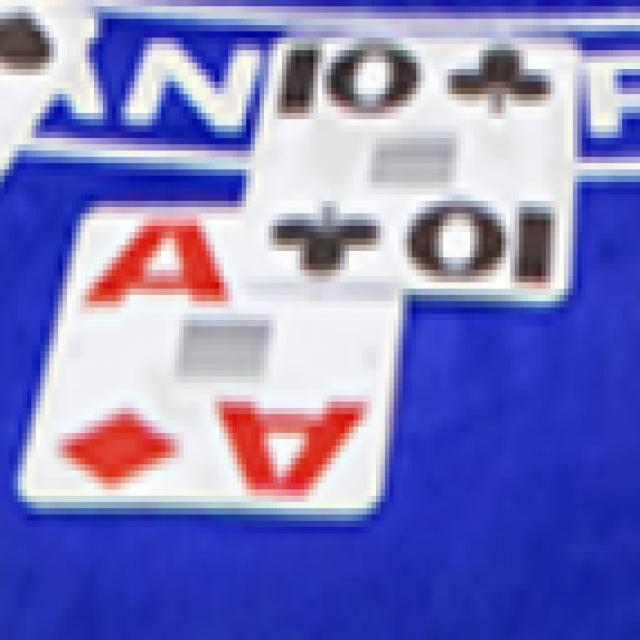Card-10: (242, 35, 577, 300)
Card-A: (21, 207, 400, 510)
